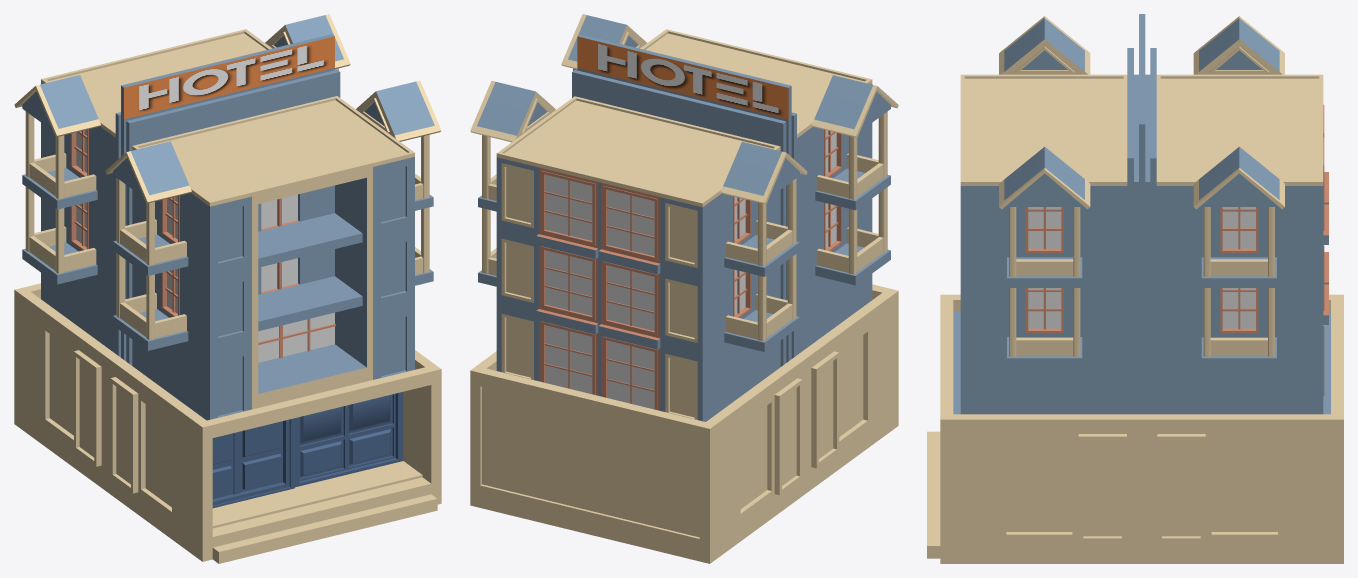
The model's file is commercial-building-hotel.fbx.
3 views of the same model, side by side, from view 1: azimuth 30°, elevation 25°; view 2: azimuth 150°, elevation 25°; view 3: azimuth 270°, elevation 25° (orthographic). The views are drawn at different scales.
Visible parts, largest first — view 1: commercial-building-hotel; view 2: commercial-building-hotel; view 3: commercial-building-hotel.
Part boxes in pixels (x1,y1,x2,y2): commercial-building-hotel: (14, 14, 441, 563); commercial-building-hotel: (470, 14, 898, 563); commercial-building-hotel: (927, 14, 1343, 563).
Bounding box in the file's own units: 11.44 × 15 × 13.11.
